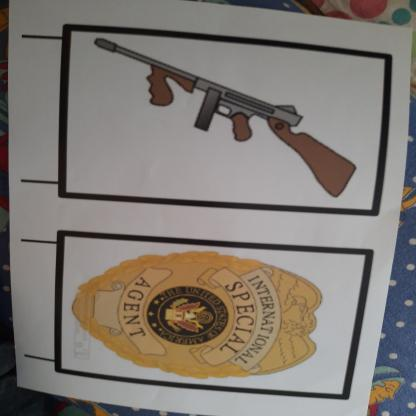Bootlegger: (77, 24, 379, 211)
G-man: (59, 236, 340, 388)
